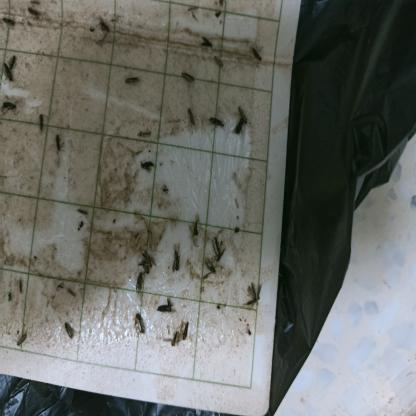prays_oleae: (136, 246, 156, 278), (207, 235, 229, 263), (248, 41, 264, 70), (247, 282, 262, 312), (168, 246, 184, 272), (63, 320, 78, 347), (208, 110, 225, 133), (238, 100, 252, 124), (201, 258, 217, 278), (154, 300, 174, 316), (200, 30, 214, 52), (98, 15, 110, 40), (186, 107, 198, 130), (1, 63, 13, 86), (14, 330, 30, 347), (2, 14, 18, 31), (134, 313, 146, 335), (188, 217, 200, 239), (179, 319, 192, 339), (179, 69, 196, 84), (26, 5, 43, 20), (2, 96, 16, 114), (139, 157, 155, 171), (54, 134, 64, 156), (134, 272, 144, 294), (233, 117, 244, 137), (126, 72, 140, 87), (169, 330, 179, 348), (38, 111, 46, 132), (9, 50, 17, 70), (162, 183, 170, 195)
